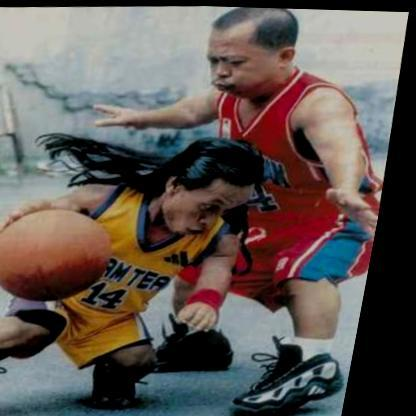basketball: (0, 203, 127, 304)
